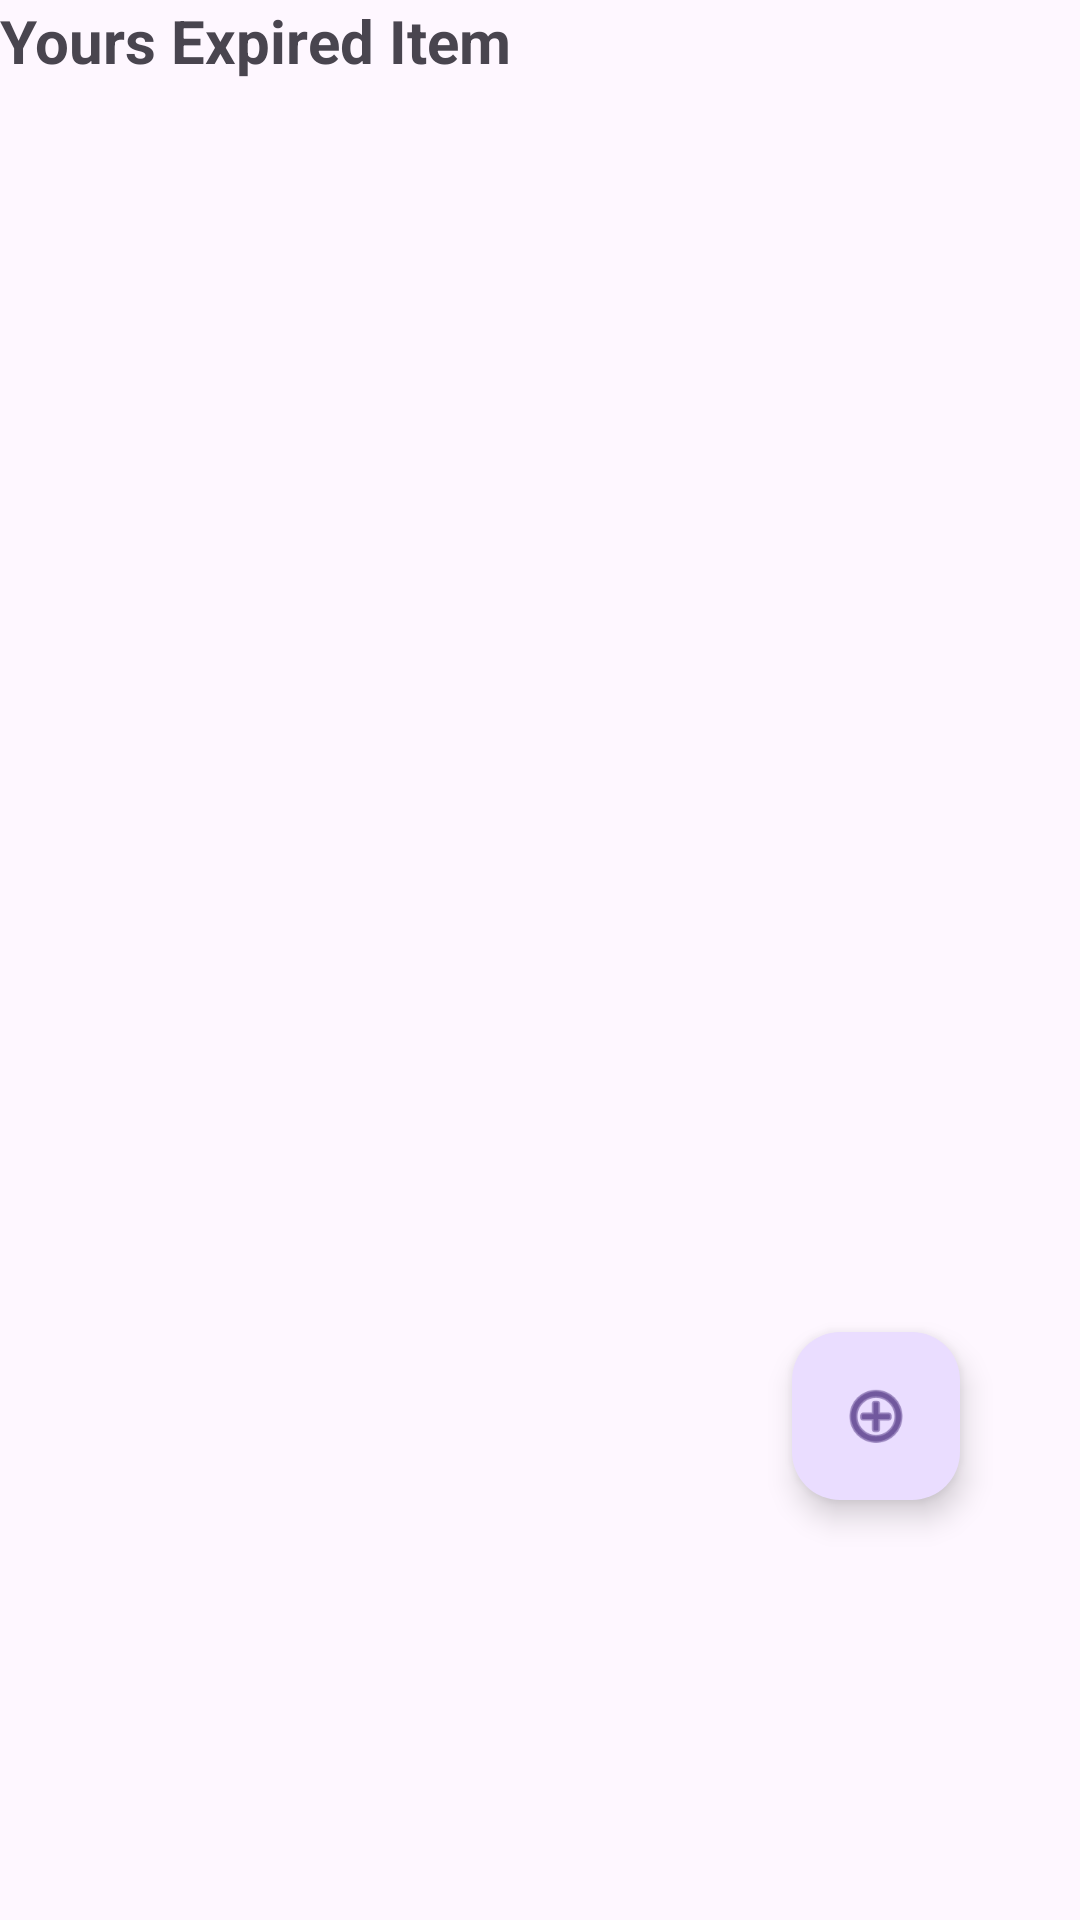

Named icons in this screenshot (1080px x 1920px) and their centers, point (x, y):
add: point (876, 1416)
